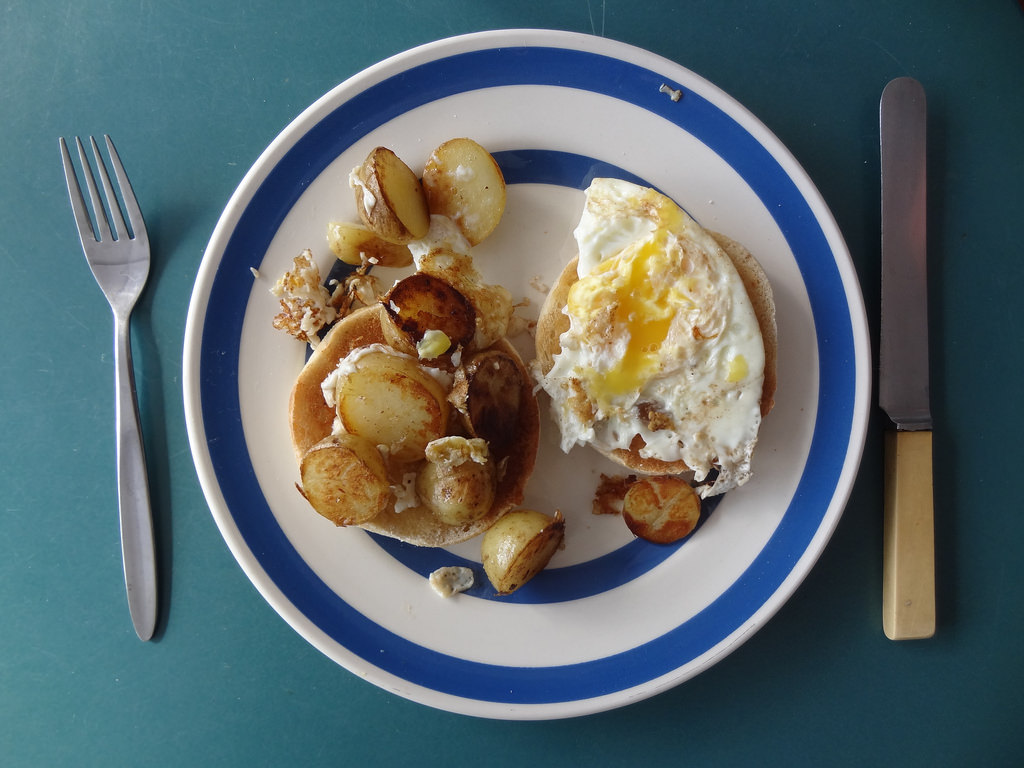boiled potatoes: (334, 348, 449, 467), (294, 434, 404, 527), (424, 137, 514, 247), (380, 278, 477, 367), (346, 149, 433, 246), (479, 507, 573, 594), (417, 435, 496, 524), (617, 480, 714, 544)
fried egg: (564, 169, 769, 487)
